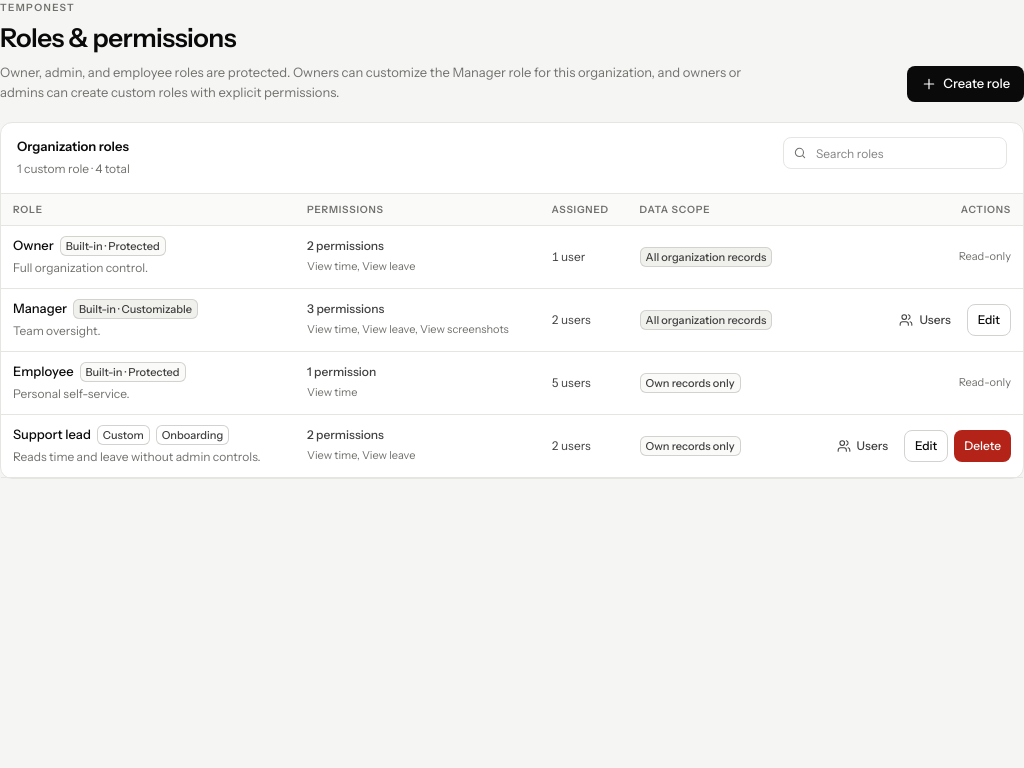
RolesView › creates a role with the selected permissions and scope
Expected: the table is shown, [1,194,1023,478]
Click the button "Create role": click(966, 84) [907,66,1023,102]
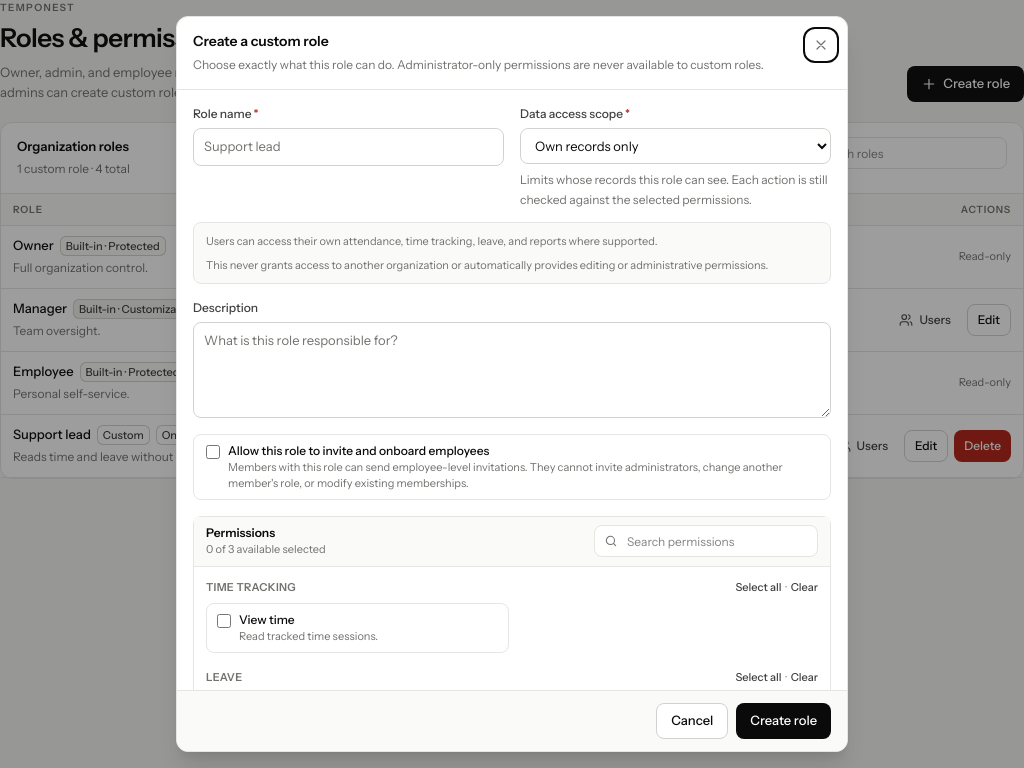
In the field labelled "Role name*": (348, 147) [193,128,504,166], type "Shift lead"
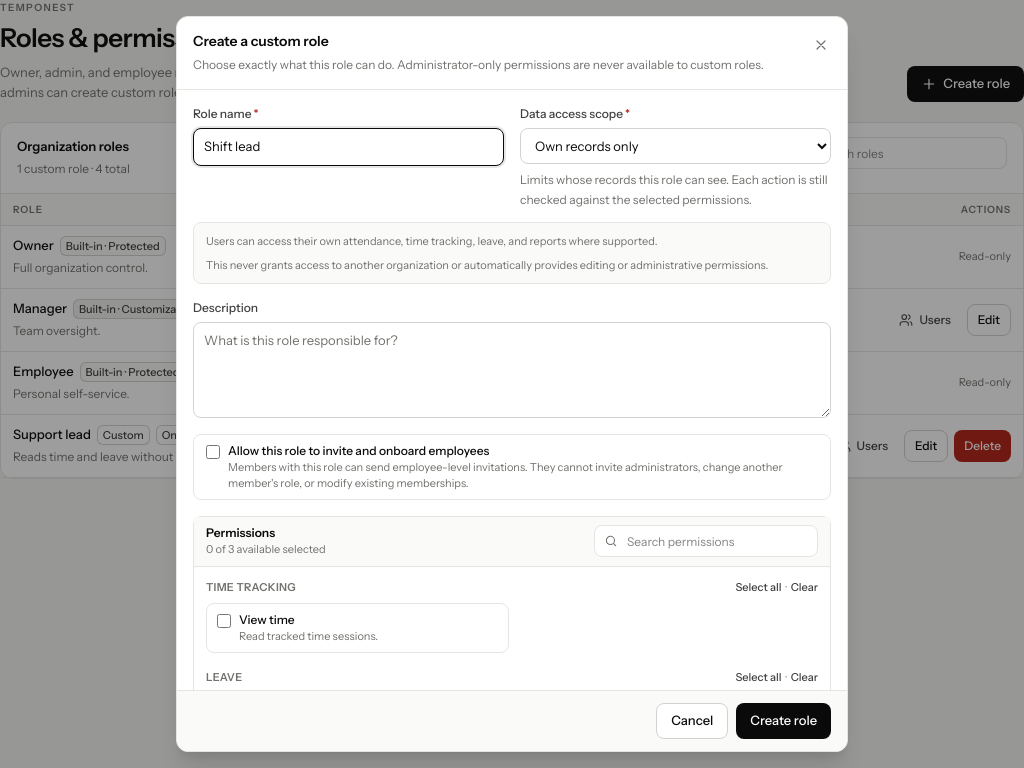
In the text box labelled "Description": (512, 370) [193,322,831,418], type "Delegated shift oversight."
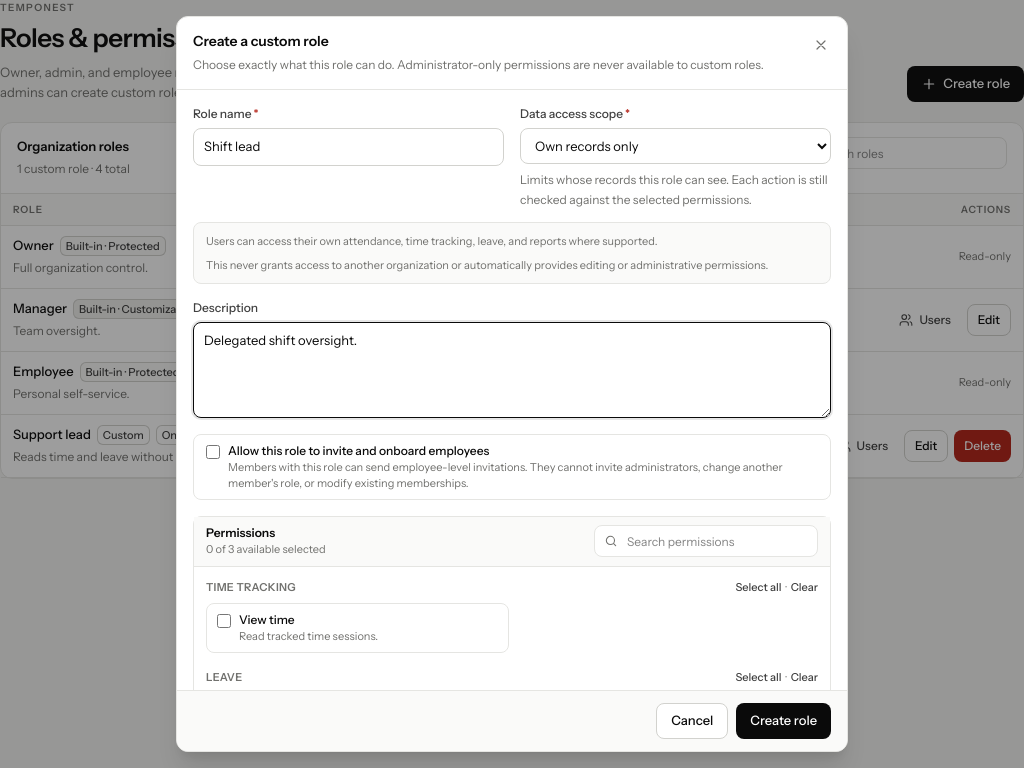
Click the checkbox labelled "View time Read tracked time sessions.": click(224, 621) [217,614,231,628]
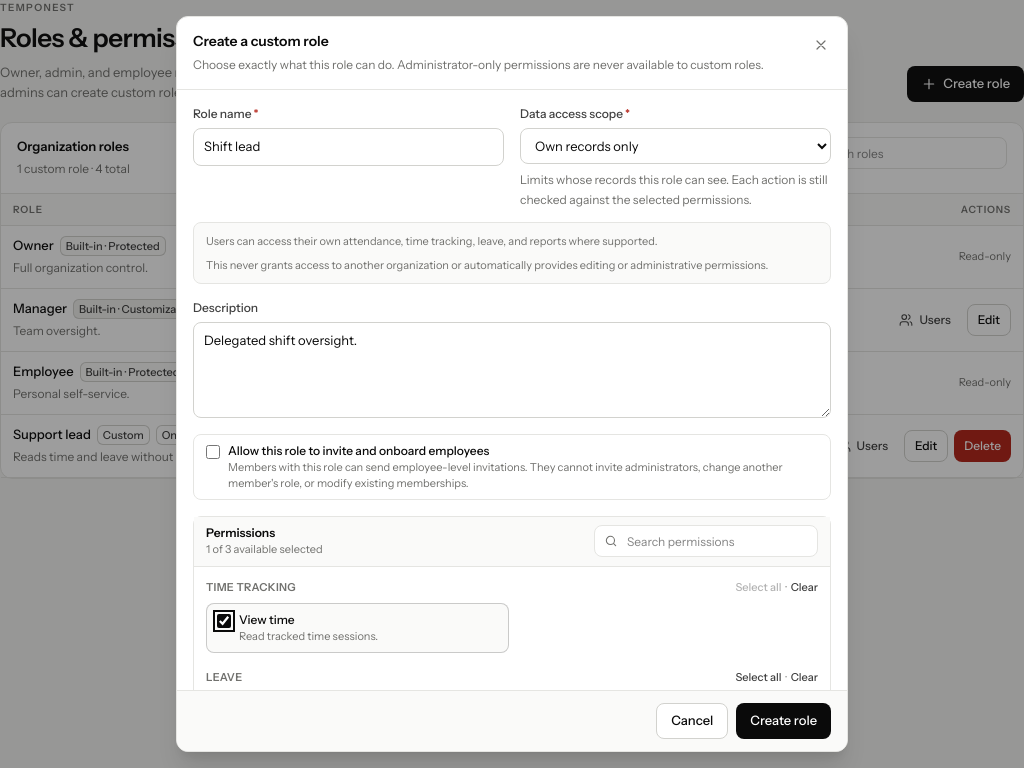
Select "All organization records" in the dropdown labelled "Data access scope*": (676, 146) [520,128,831,164]
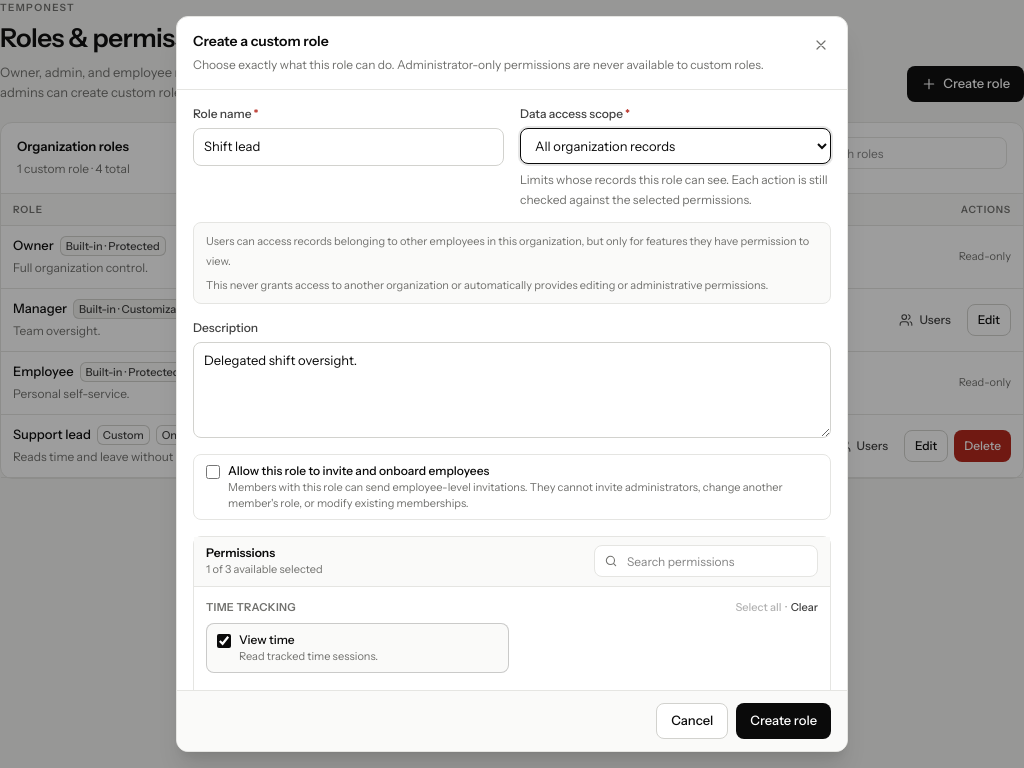
Result: the text "never grants access to another organization" is shown at [206,278,768,292]
Result: the text "Users can access records belonging to other employees in this organization" is shown at [206,234,809,268]
Click the button "Create role": click(784, 721) [736,703,831,739]
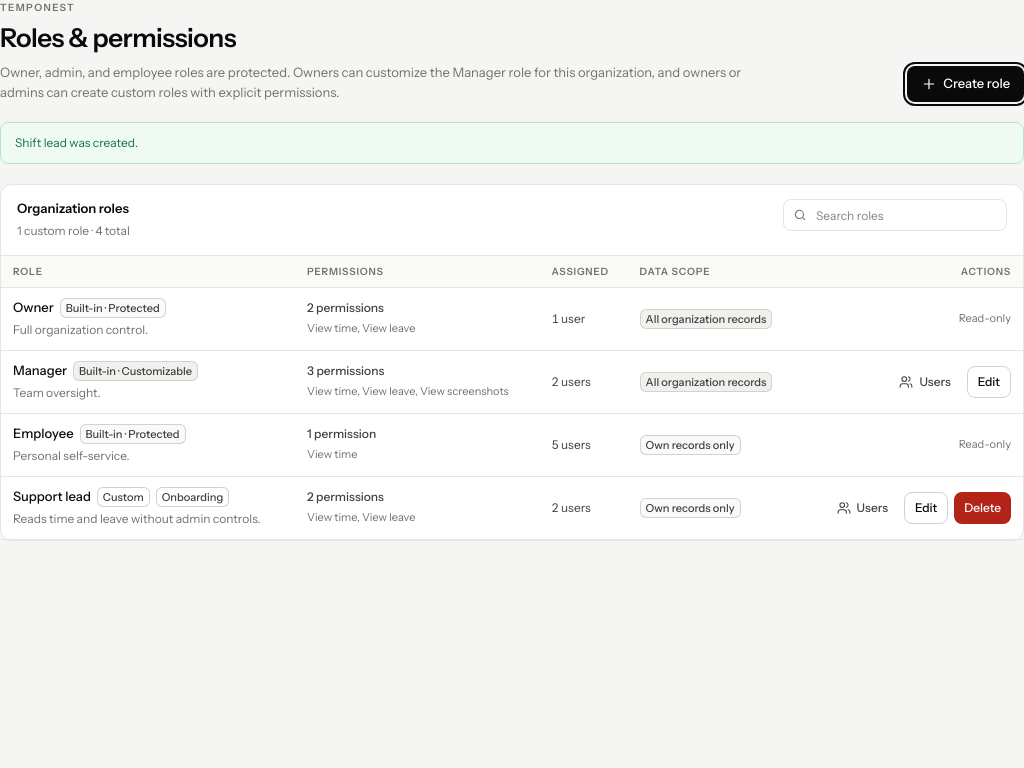
Result: the text "Shift lead was created." is shown at [15,135,138,150]
